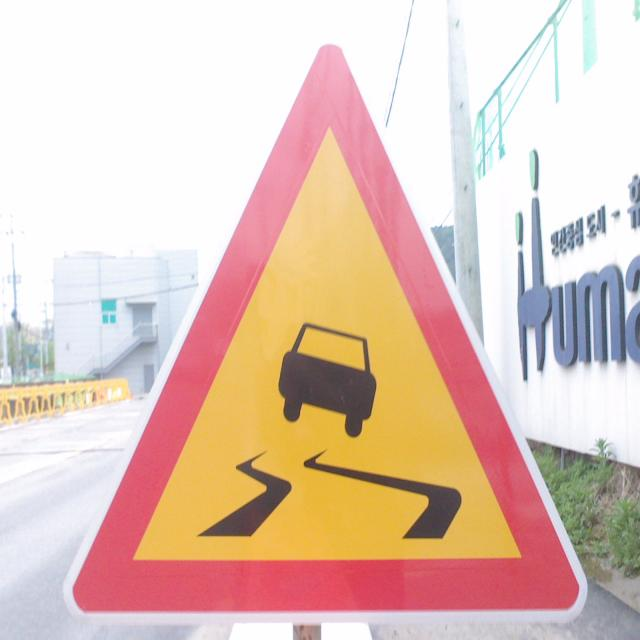Slippery_road: (48, 15, 592, 628)
